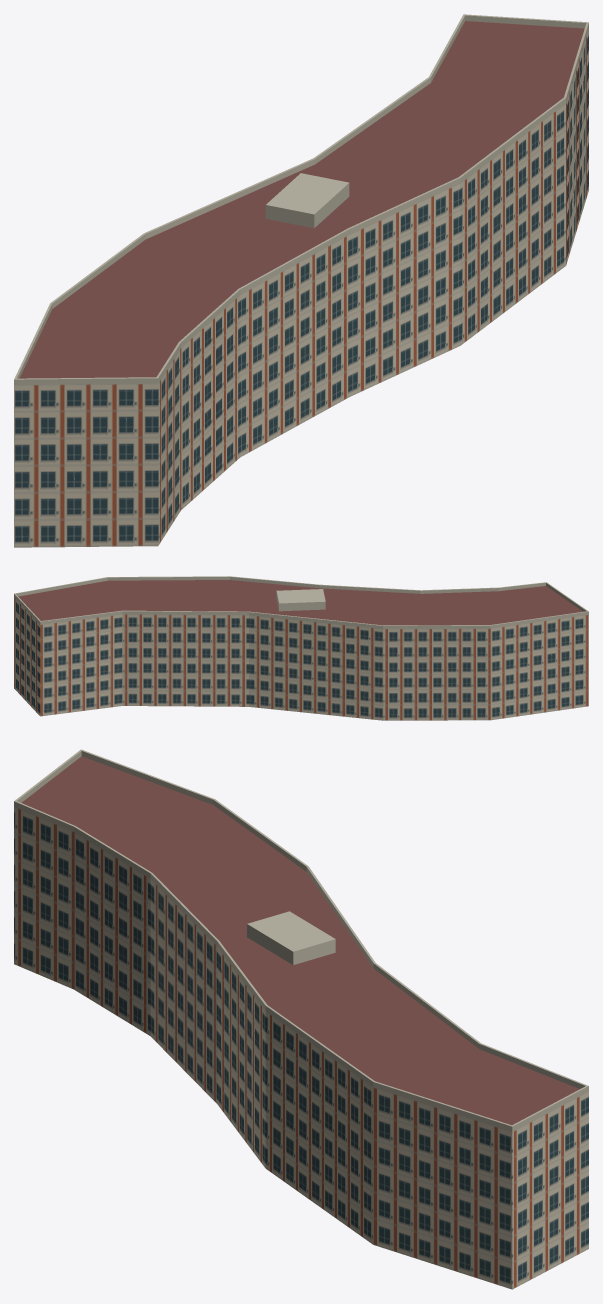
3 views of the same model, one above another, from view 1: azimuth 30°, elevation 25°; view 2: azimuth 150°, elevation 25°; view 3: azimuth 270°, elevation 25° (orthographic). The views are drawn at different scales.
Parts seen in each view (by area): view 1: B09_dorm, B09_dorm_parapet, B09_dorm_plant; view 2: B09_dorm, B09_dorm_parapet, B09_dorm_plant; view 3: B09_dorm, B09_dorm_parapet, B09_dorm_plant.
Boxes of the visible parts, x1,y1,x2,y2 form: B09_dorm: [14, 21, 588, 547]; B09_dorm_parapet: [14, 14, 588, 384]; B09_dorm_plant: [265, 173, 349, 228]; B09_dorm: [14, 580, 588, 720]; B09_dorm_parapet: [14, 576, 588, 628]; B09_dorm_plant: [276, 589, 325, 611]; B09_dorm: [14, 756, 588, 1289]; B09_dorm_parapet: [14, 749, 588, 1131]; B09_dorm_plant: [247, 911, 335, 964].
Size of the model in its own units: 120 by 25.4 by 77.38.
Materials: 3 (1 with a texture image).
